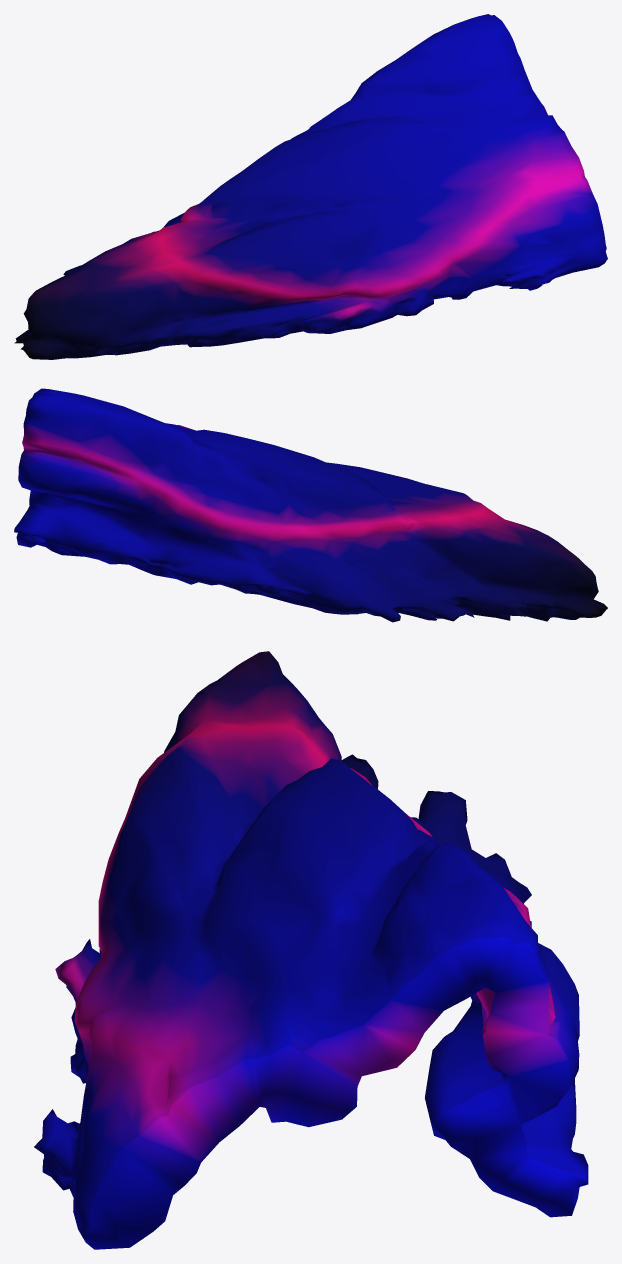
Rendered from silver_vein-u4-cold-lod0.gltf.
3 views of the same model, one above another, from view 1: azimuth 30°, elevation 25°; view 2: azimuth 150°, elevation 25°; view 3: azimuth 270°, elevation 25° (orthographic). The views are drawn at different scales.
Parts seen in each view (by area): view 1: silver_vein-u4-cold-lod0; view 2: silver_vein-u4-cold-lod0; view 3: silver_vein-u4-cold-lod0.
Boxes of the visible parts, box(x1,y1,x2,y2) form: silver_vein-u4-cold-lod0: box(14, 14, 607, 359); silver_vein-u4-cold-lod0: box(14, 388, 607, 622); silver_vein-u4-cold-lod0: box(34, 651, 588, 1249).
Size of the model in its own units: 1.65 by 0.489 by 0.7795.
